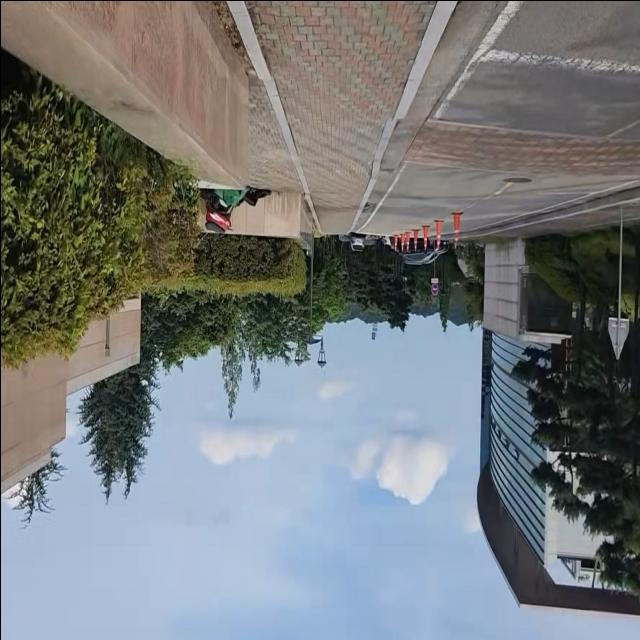obstacle: (347, 228, 366, 259)
road: (353, 0, 640, 231)
sidewalk: (219, 0, 451, 238), (451, 190, 640, 248)
